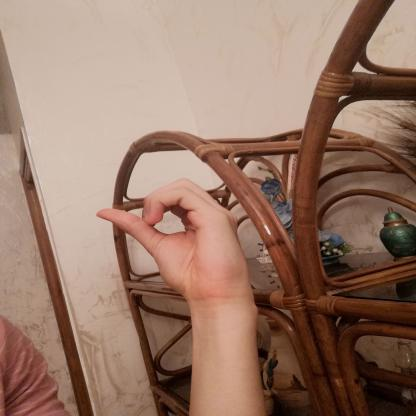WAW: (81, 169, 267, 316)
